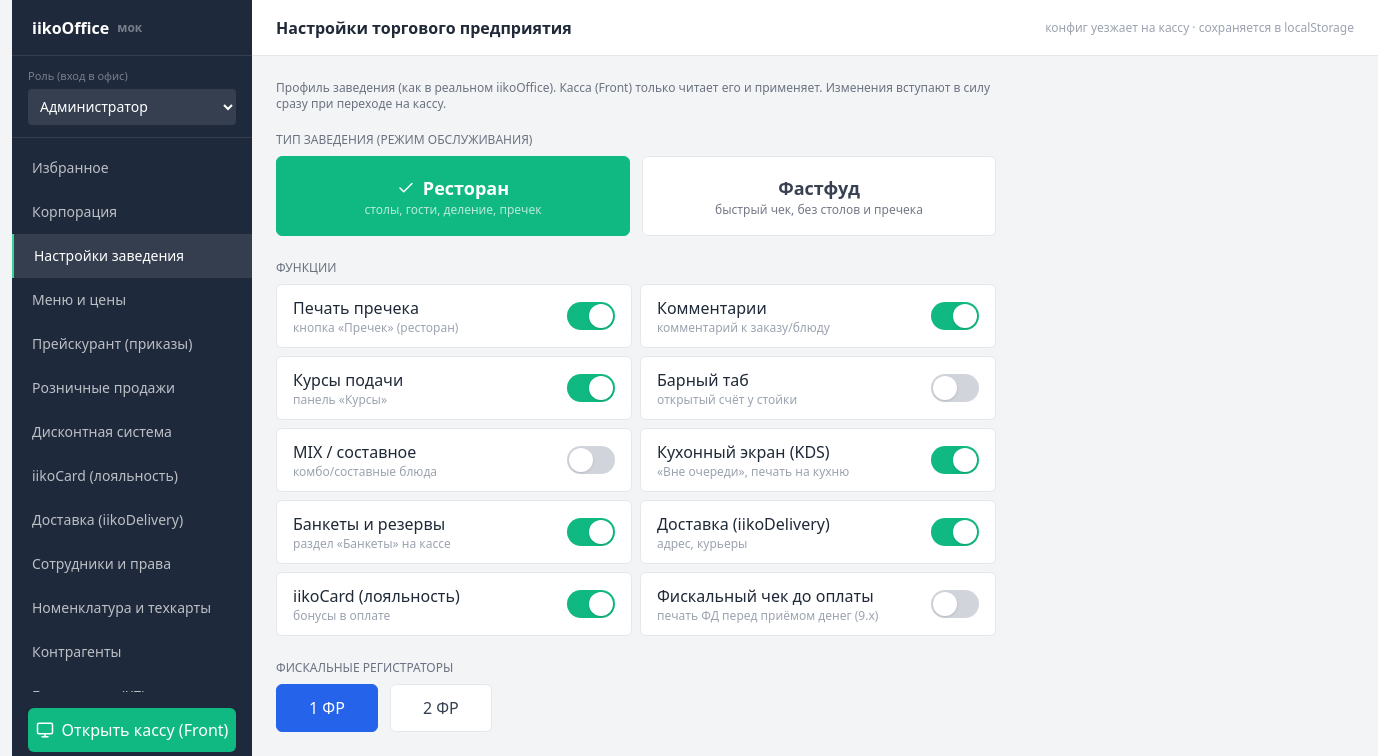
Scenario: Бэк-офис → Избранное и Помощь: смоук рендера › Избранное открывается и показывает плитки быстрого доступа
Click the button "Избранное" at [132, 168], box [12,146,252,190]
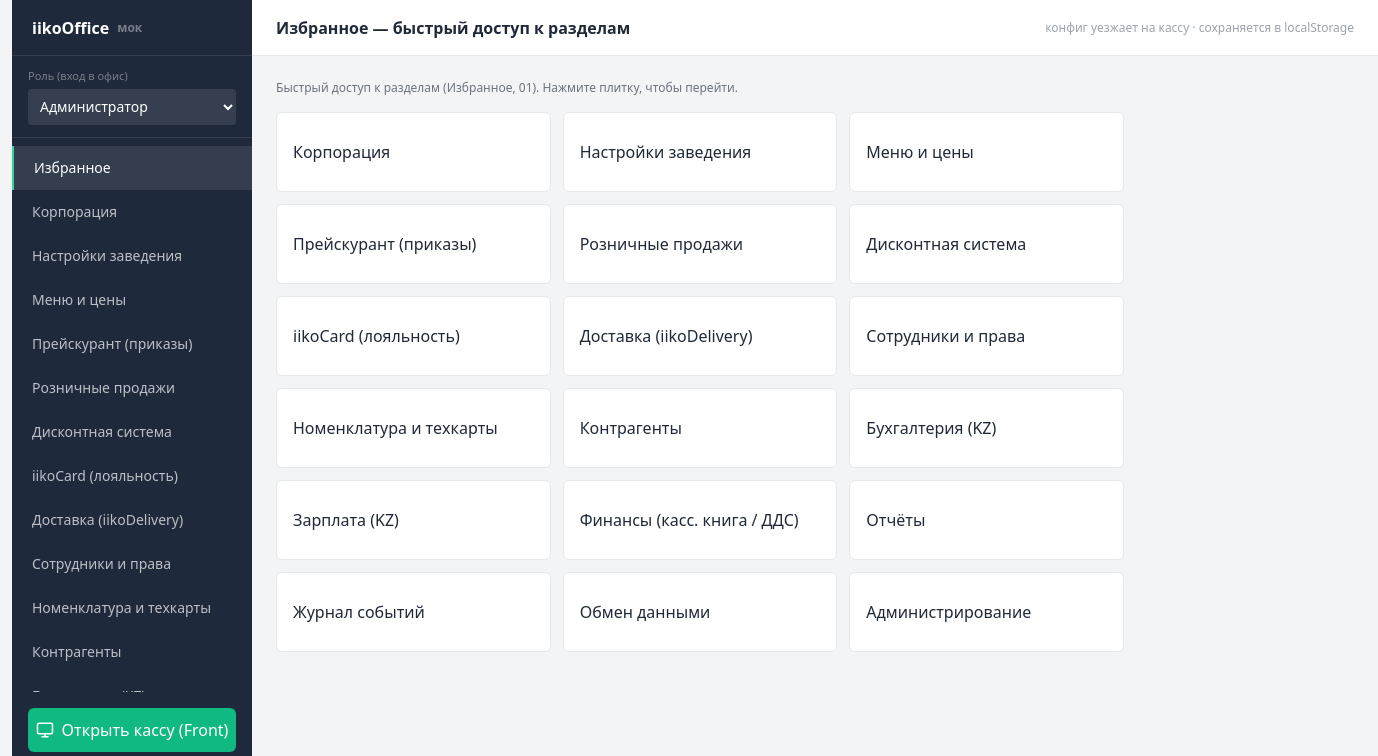
Result: the text "Быстрый доступ к разделам" is shown at [276,79,738,96]
